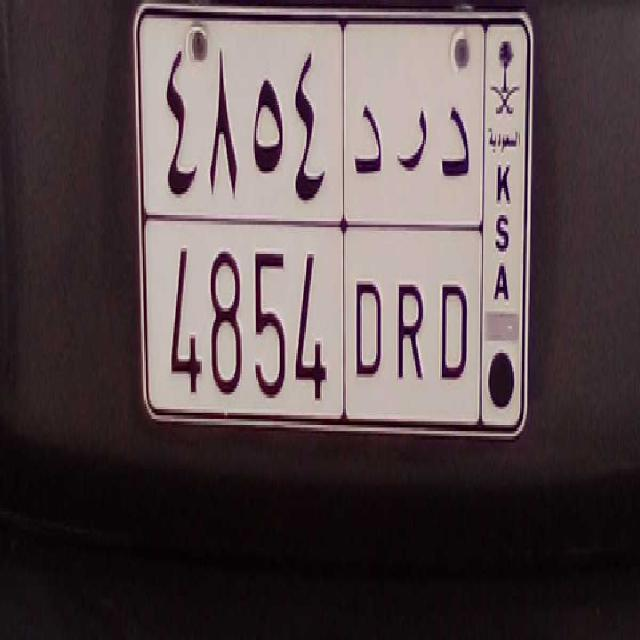license_plate: (143, 205, 480, 436)
